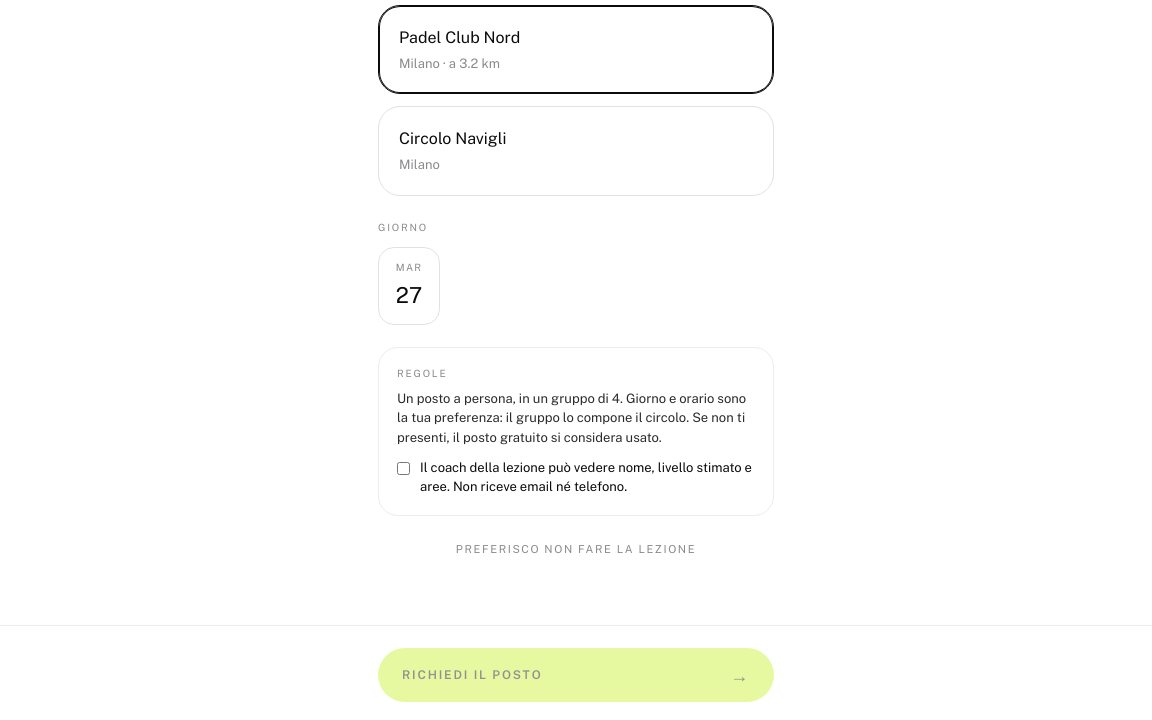
Scenario: Lezione gratuita › shows the outcome of a decline and leads back to the summary
(page scrolled)
Click the button "Preferisco non fare la lezione" at (576, 550), box x1=456 y1=530 x2=696 y2=570
(page scrolled)
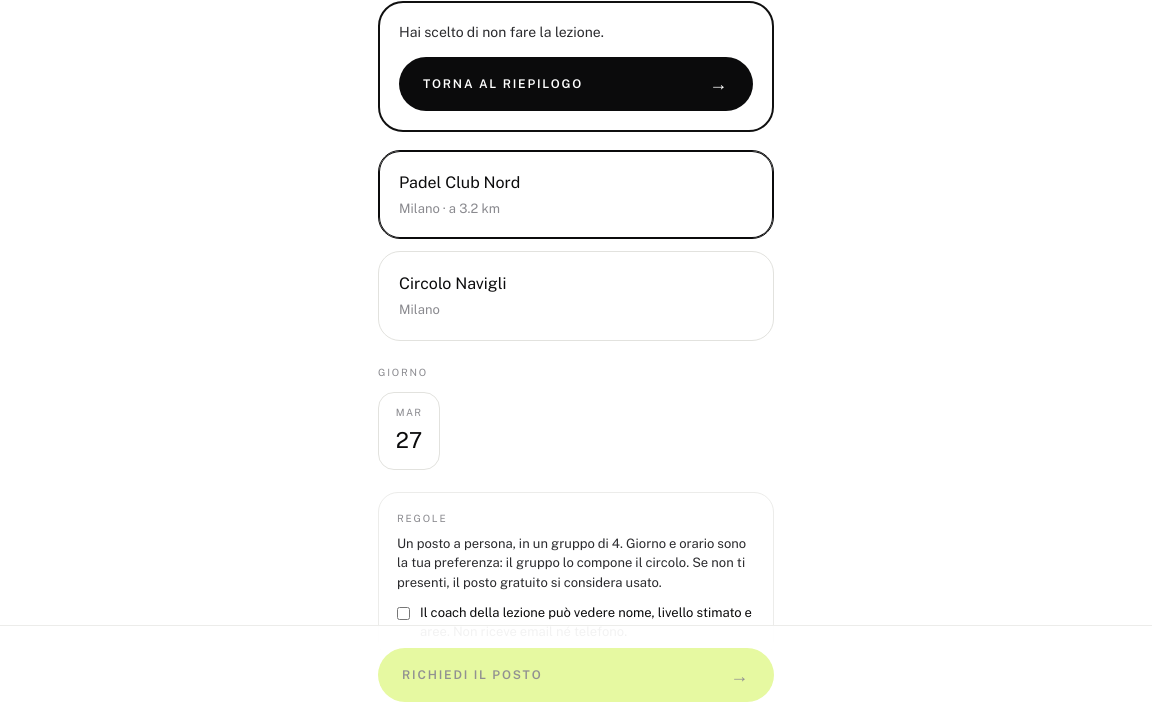
Check: the message named "Esito" shows "Hai scelto di non fare la lezione.", box x1=399 y1=24 x2=604 y2=40
